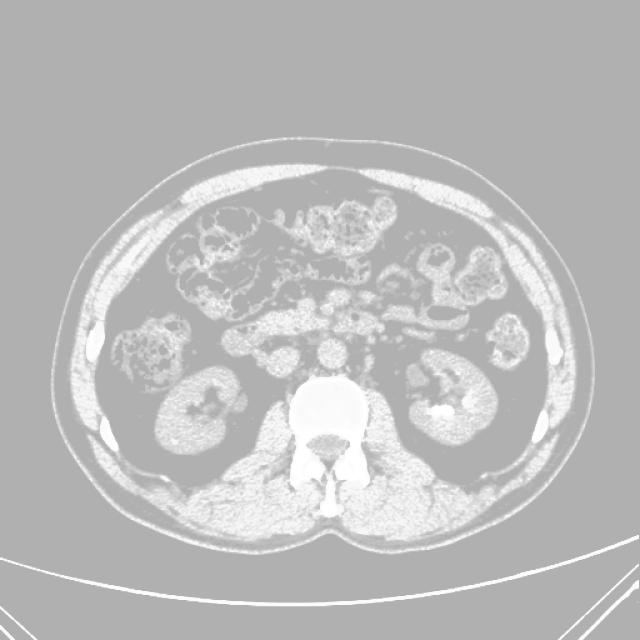STONE: (130, 306, 517, 472)
